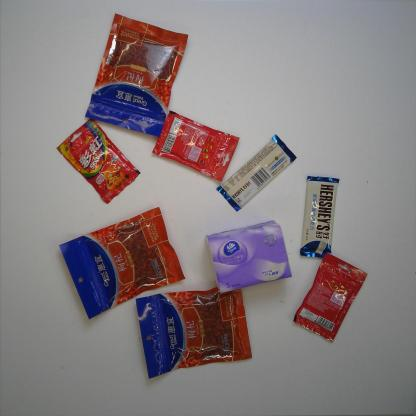Candy: (56, 118, 142, 204), (293, 253, 369, 343), (152, 110, 240, 182)
Chocolate: (215, 134, 297, 212), (300, 175, 340, 259)
Dried Fruit: (59, 207, 186, 320), (84, 13, 190, 138), (135, 283, 253, 380)
Tissue: (205, 220, 292, 294)
